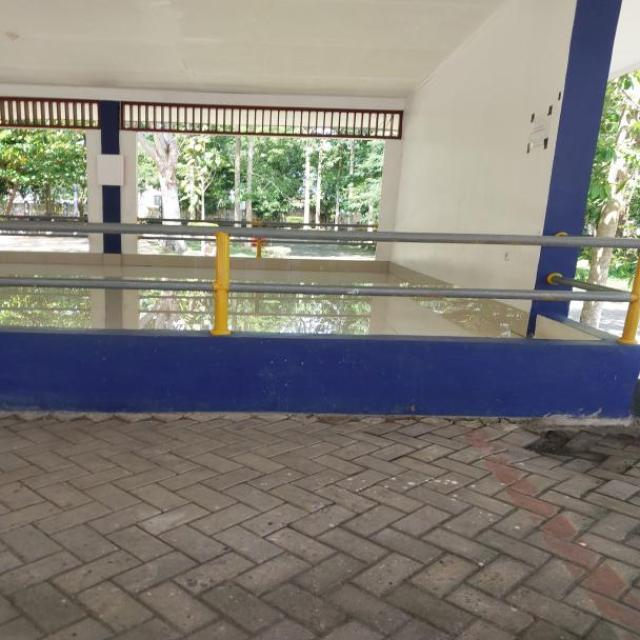barrier ahead at: (11, 227, 640, 415)
